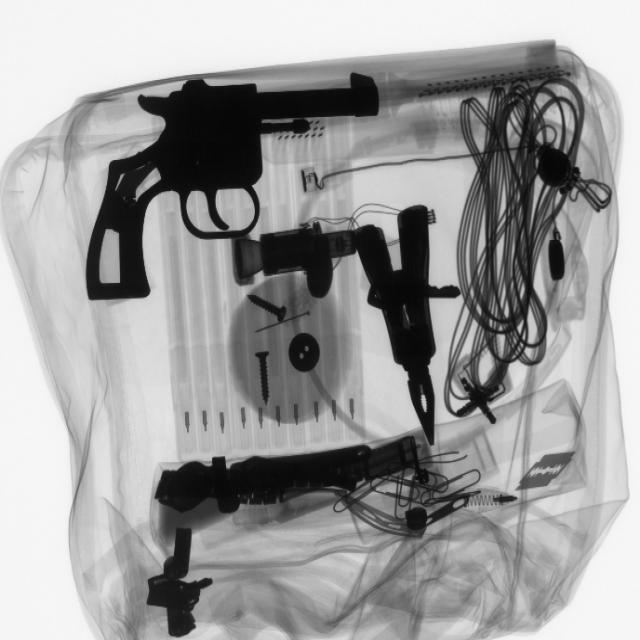BLADE: (515, 447, 581, 501)
GUN: (82, 76, 390, 306)
SCREW: (239, 344, 291, 412), (237, 287, 297, 336)
